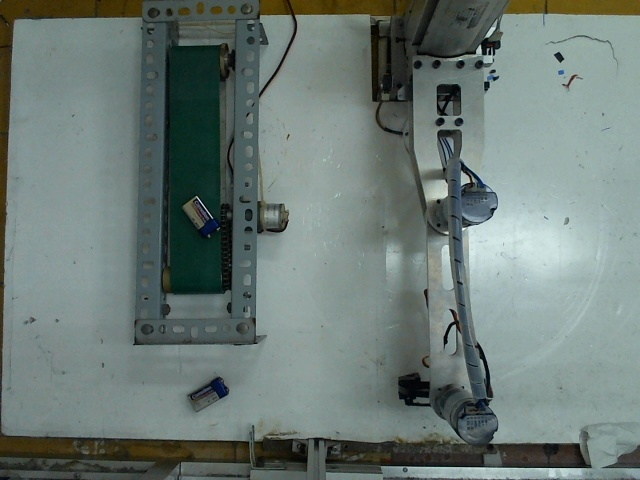battery: (180, 194, 219, 236), (183, 372, 227, 409)
